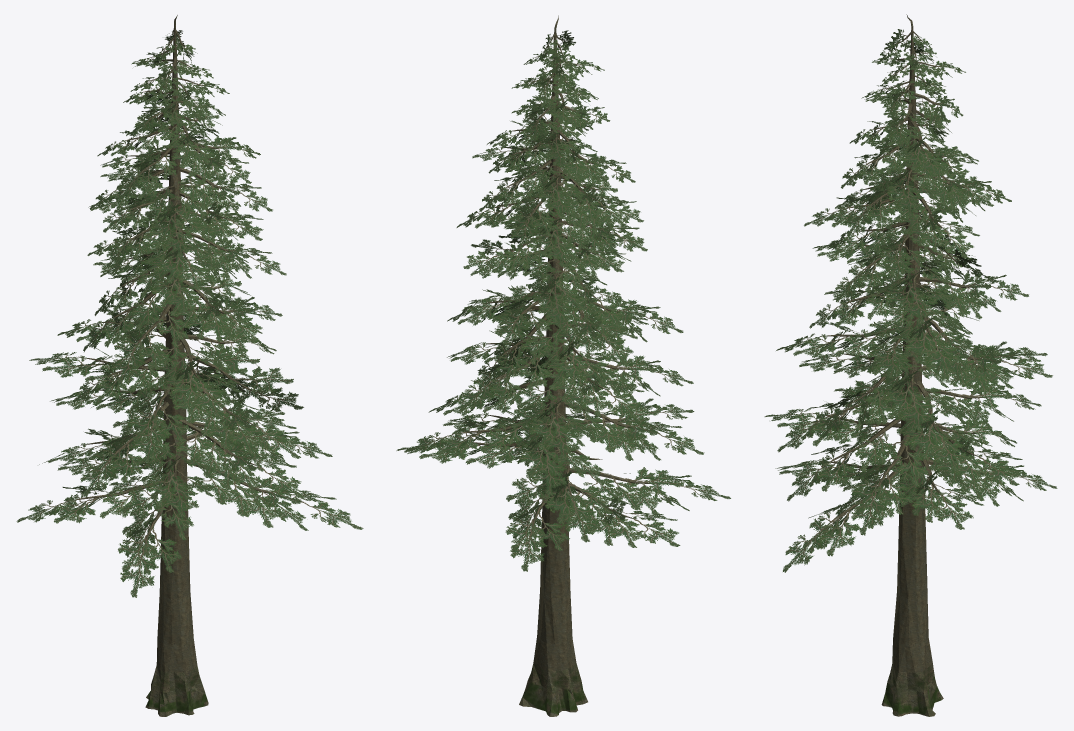
File: Tree_W_Shadow.obj
3 renders of one model, left to right at view 1: azimuth 30°, elevation 25°; view 2: azimuth 150°, elevation 25°; view 3: azimuth 270°, elevation 25°, orthographic.
Visible parts, largest first — view 1: Tree_W_Shadow:Mesh669Component_61_1Model, Tree_W_Shadow:Mesh490Component_57_435Component_60_55Component_61, Tree_W_Shadow:Mesh608Component_57_539Component_60_68Component_61, Tree_W_Shadow:Mesh491Component_57_436Component_60_55Component_61, Tree_W_Shadow:Mesh488Component_57_433Component_60_55Component_61, Tree_W_Shadow:Mesh495Component_57_440Component_60_55Component_61, Tree_W_Shadow:Mesh667Component_57_592Component_60_74Component_61, Tree_W_Shadow:Mesh480Component_57_426Component_60_54Component_61, Tree_W_Shadow:Mesh483Component_57_429Component_60_54Component_61, Tree_W_Shadow:Mesh481Component_57_427Component_60_54Component_61, Tree_W_Shadow:Mesh635Component_57_563Component_60_71Component_61, Tree_W_Shadow:Mesh636Component_57_564Component_60_71Component_61 (+13 smaller); view 2: Tree_W_Shadow:Mesh669Component_61_1Model, Tree_W_Shadow:Mesh492Component_57_437Component_60_55Component_61, Tree_W_Shadow:Mesh508Component_57_451Component_60_57Component_61, Tree_W_Shadow:Mesh599Component_57_531Component_60_67Component_61, Tree_W_Shadow:Mesh472Component_57_419Component_60_53Component_61, Tree_W_Shadow:Mesh509Component_57_452Component_60_57Component_61, Tree_W_Shadow:Mesh563Component_57_499Component_60_63Component_61, Tree_W_Shadow:Mesh600Component_57_532Component_60_67Component_61, Tree_W_Shadow:Mesh521Component_57_463Component_60_58Component_61, Tree_W_Shadow:Mesh473Component_57_420Component_60_53Component_61, Tree_W_Shadow:Mesh564Component_57_500Component_60_63Component_61, Tree_W_Shadow:Mesh501Component_57_445Component_60_56Component_61 (+5 smaller); view 3: Tree_W_Shadow:Mesh669Component_61_1Model, Tree_W_Shadow:Mesh486Component_57_432Component_60_54Component_61, Tree_W_Shadow:Mesh526Component_57_467Component_60_59Component_61, Tree_W_Shadow:Mesh539Component_57_479Component_60_60Component_61, Tree_W_Shadow:Mesh481Component_57_427Component_60_54Component_61, Tree_W_Shadow:Mesh581Component_57_515Component_60_65Component_61, Tree_W_Shadow:Mesh582Component_57_516Component_60_65Component_61, Tree_W_Shadow:Mesh554Component_57_492Component_60_62Component_61, Tree_W_Shadow:Mesh553Component_57_491Component_60_62Component_61, Tree_W_Shadow:Mesh626Component_57_555Component_60_70Component_61, Tree_W_Shadow:Mesh527Component_57_468Component_60_59Component_61, Tree_W_Shadow:Mesh531Component_57_472Component_60_59Component_61 (+13 smaller).
Part boxes in pixels (x1,y1,x2,y2): Tree_W_Shadow:Mesh669Component_61_1Model: (145, 15, 208, 716); Tree_W_Shadow:Mesh490Component_57_435Component_60_55Component_61: (120, 546, 158, 597); Tree_W_Shadow:Mesh608Component_57_539Component_60_68Component_61: (132, 419, 169, 463); Tree_W_Shadow:Mesh491Component_57_436Component_60_55Component_61: (118, 528, 158, 572); Tree_W_Shadow:Mesh488Component_57_433Component_60_55Component_61: (121, 482, 163, 519); Tree_W_Shadow:Mesh495Component_57_440Component_60_55Component_61: (142, 529, 182, 572); Tree_W_Shadow:Mesh667Component_57_592Component_60_74Component_61: (235, 366, 293, 392); Tree_W_Shadow:Mesh480Component_57_426Component_60_54Component_61: (212, 481, 264, 516); Tree_W_Shadow:Mesh483Component_57_429Component_60_54Component_61: (241, 477, 301, 507); Tree_W_Shadow:Mesh481Component_57_427Component_60_54Component_61: (296, 499, 363, 529); Tree_W_Shadow:Mesh635Component_57_563Component_60_71Component_61: (188, 380, 231, 417); Tree_W_Shadow:Mesh636Component_57_564Component_60_71Component_61: (170, 370, 210, 408); Tree_W_Shadow:Mesh669Component_61_1Model: (519, 15, 587, 716); Tree_W_Shadow:Mesh492Component_57_437Component_60_55Component_61: (619, 467, 684, 495); Tree_W_Shadow:Mesh508Component_57_451Component_60_57Component_61: (559, 498, 600, 542); Tree_W_Shadow:Mesh599Component_57_531Component_60_67Component_61: (529, 453, 567, 496); Tree_W_Shadow:Mesh472Component_57_419Component_60_53Component_61: (510, 528, 547, 571); Tree_W_Shadow:Mesh509Component_57_452Component_60_57Component_61: (544, 481, 585, 524); Tree_W_Shadow:Mesh563Component_57_499Component_60_63Component_61: (541, 422, 580, 459); Tree_W_Shadow:Mesh600Component_57_532Component_60_67Component_61: (519, 444, 558, 479); Tree_W_Shadow:Mesh521Component_57_463Component_60_58Component_61: (481, 423, 522, 452); Tree_W_Shadow:Mesh473Component_57_420Component_60_53Component_61: (505, 513, 544, 550); Tree_W_Shadow:Mesh564Component_57_500Component_60_63Component_61: (529, 413, 570, 450); Tree_W_Shadow:Mesh501Component_57_445Component_60_56Component_61: (609, 412, 657, 440); Tree_W_Shadow:Mesh669Component_61_1Model: (881, 14, 943, 716); Tree_W_Shadow:Mesh486Component_57_432Component_60_54Component_61: (818, 511, 861, 556); Tree_W_Shadow:Mesh526Component_57_467Component_60_59Component_61: (851, 489, 888, 535); Tree_W_Shadow:Mesh539Component_57_479Component_60_60Component_61: (855, 432, 894, 472); Tree_W_Shadow:Mesh481Component_57_427Component_60_54Component_61: (783, 525, 825, 572); Tree_W_Shadow:Mesh581Component_57_515Component_60_65Component_61: (927, 433, 969, 471); Tree_W_Shadow:Mesh582Component_57_516Component_60_65Component_61: (909, 423, 949, 460); Tree_W_Shadow:Mesh554Component_57_492Component_60_62Component_61: (911, 484, 952, 522); Tree_W_Shadow:Mesh553Component_57_491Component_60_62Component_61: (930, 493, 973, 529); Tree_W_Shadow:Mesh626Component_57_555Component_60_70Component_61: (896, 393, 935, 430); Tree_W_Shadow:Mesh527Component_57_468Component_60_59Component_61: (852, 474, 891, 512); Tree_W_Shadow:Mesh531Component_57_472Component_60_59Component_61: (875, 474, 913, 514).
Size of the model in its own units: 2.79 by 6.58 by 2.57.
